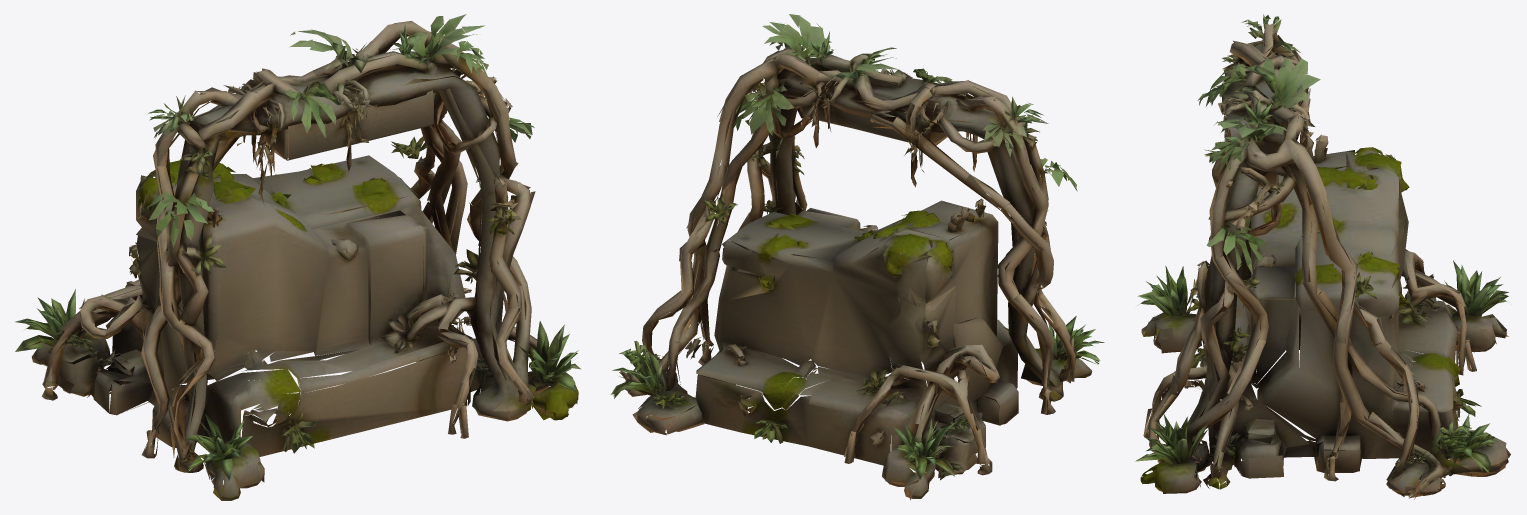
The model's file is jun_root_arch_over_stone_LOD1.glb.
The picture shows the model from 3 angles, left to right: view 1: azimuth 30°, elevation 25°; view 2: azimuth 150°, elevation 25°; view 3: azimuth 270°, elevation 25°; orthographic projection. The views are drawn at different scales.
Parts seen in each view (by area): view 1: tripo_node_2b6c4d80-21eb-4c0a-b062-b441cd52e211; view 2: tripo_node_2b6c4d80-21eb-4c0a-b062-b441cd52e211; view 3: tripo_node_2b6c4d80-21eb-4c0a-b062-b441cd52e211.
Boxes of the visible parts, x1,y1,x2,y2 form: tripo_node_2b6c4d80-21eb-4c0a-b062-b441cd52e211: (15,14,580,500); tripo_node_2b6c4d80-21eb-4c0a-b062-b441cd52e211: (610,14,1104,500); tripo_node_2b6c4d80-21eb-4c0a-b062-b441cd52e211: (1135,14,1510,499).
Size of the model in its own units: 1 by 0.8392 by 0.8301.
Materials: 1 (1 with a texture image).
